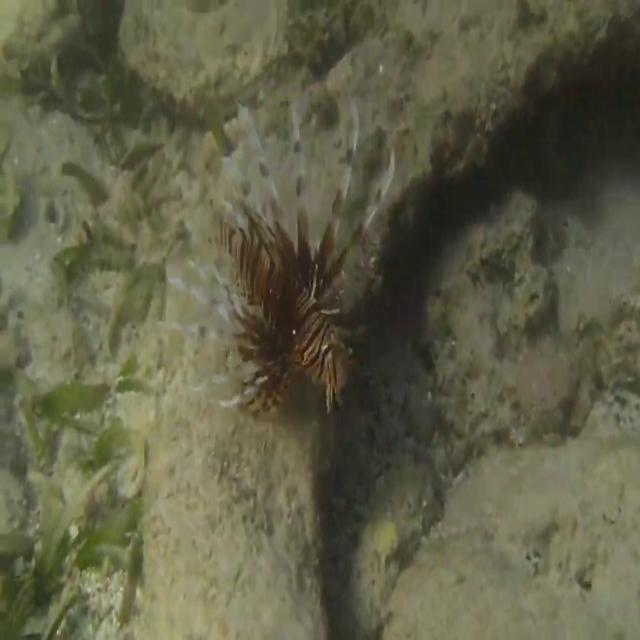Aslan Baligi: (157, 78, 414, 417)
